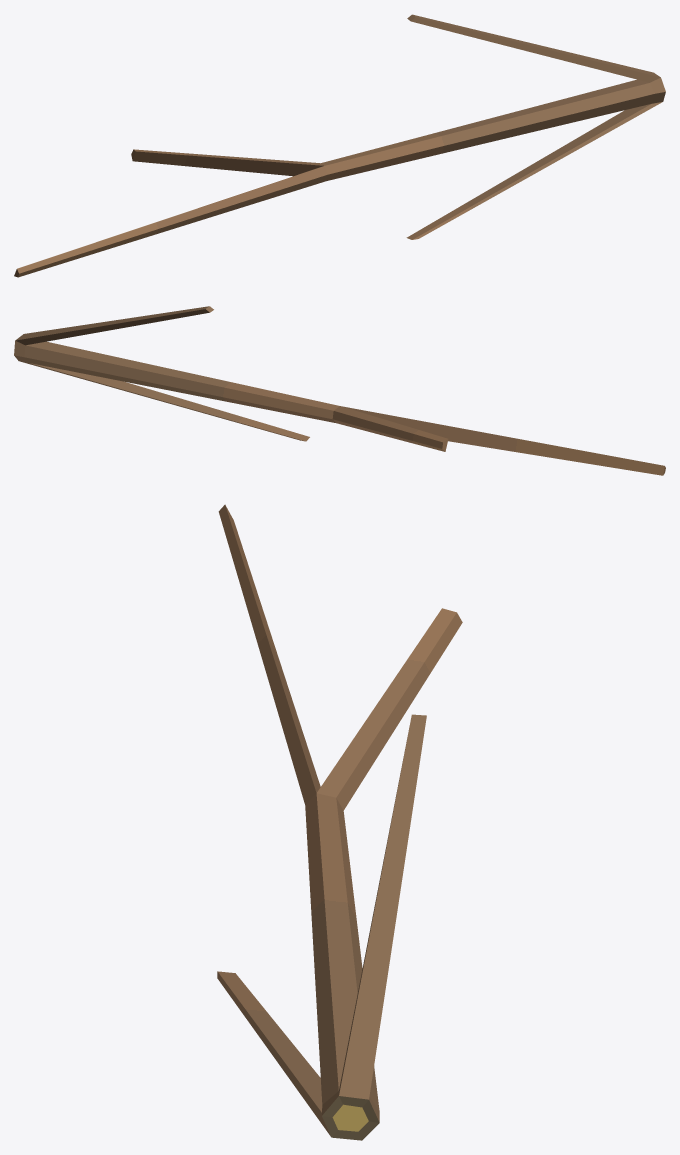
The model's file is PoplarClutter_001.fbx.
The picture shows the model from 3 angles, top to bottom: view 1: azimuth 30°, elevation 25°; view 2: azimuth 150°, elevation 25°; view 3: azimuth 270°, elevation 25°; orthographic projection. The views are drawn at different scales.
Visible parts, largest first — view 1: PoplarClutter.001; view 2: PoplarClutter.001; view 3: PoplarClutter.001.
Part boxes in pixels (left/top/right/bottom): PoplarClutter.001: left=14, top=14, right=665, bottom=277; PoplarClutter.001: left=14, top=306, right=665, bottom=475; PoplarClutter.001: left=217, top=504, right=462, bottom=1140.
Bounding box in the file's own units: 3.03 × 0.7326 × 0.5248.
